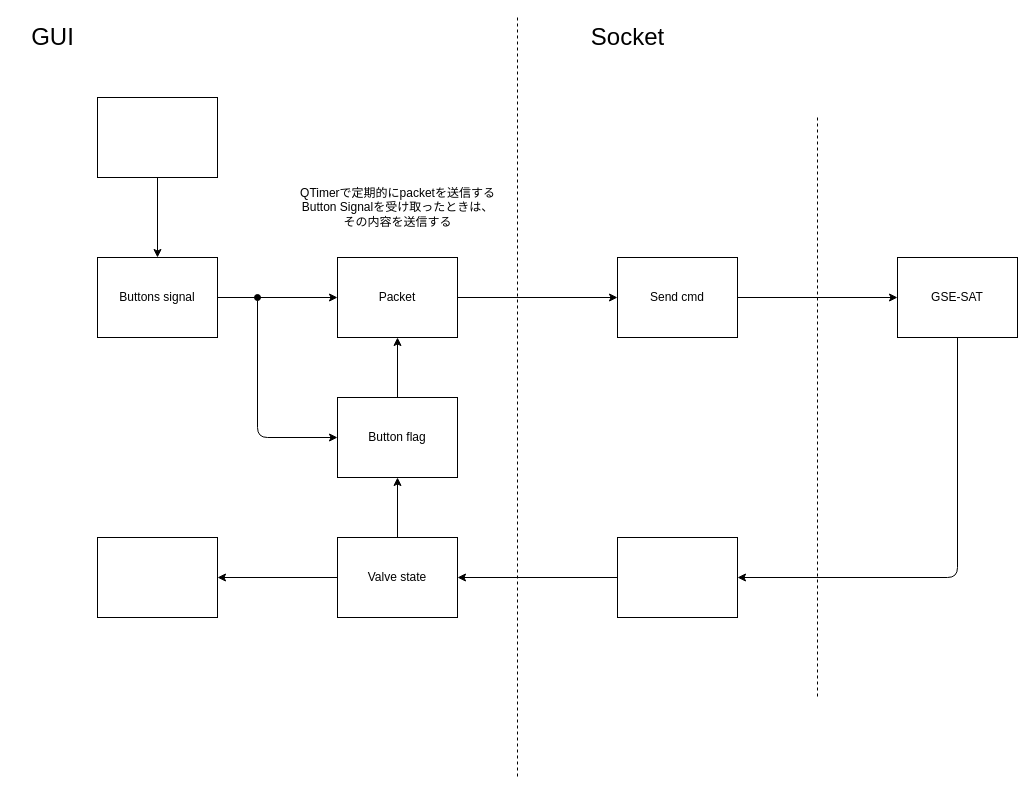
The diagram is 1035 pixels wide and 796 high, and some of its shapes have lost their labels. Here are the shapes that lost their labels. From the top down, the centre of each, then its label:
pixel 157 137: Socket connect
pixel 157 577: State display
pixel 677 577: Receive cmd
